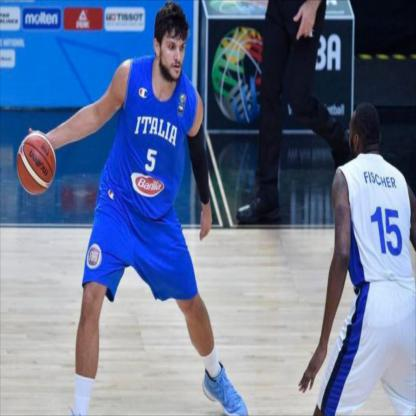Ball: (16, 131, 55, 195)
